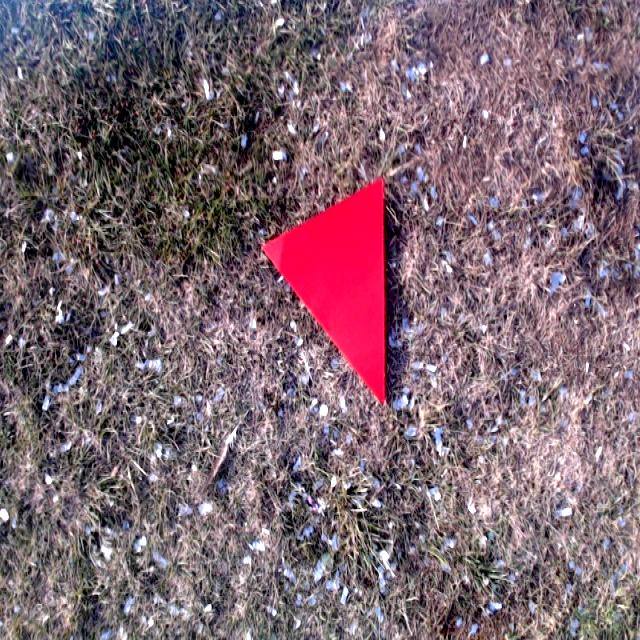red_triangle: (254, 175, 386, 406)
